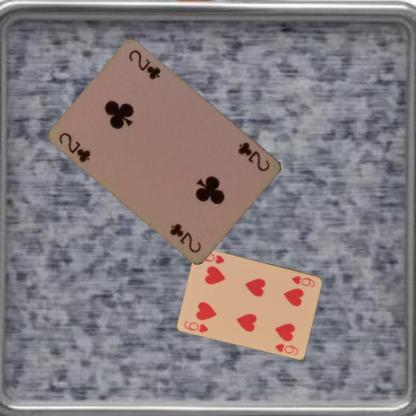2c: (235, 140, 272, 174), (57, 130, 92, 164)
6h: (181, 318, 210, 334), (290, 273, 316, 288)
